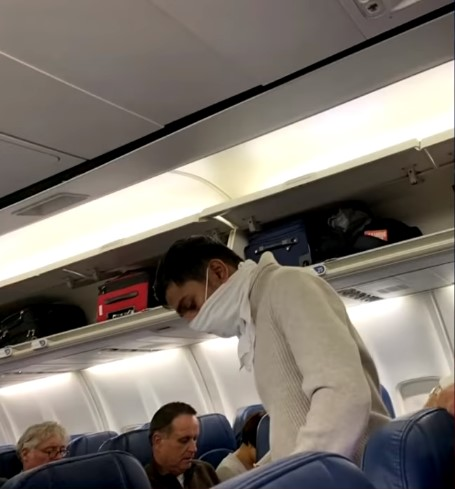face_no_mask: (150, 406, 199, 470)
face_with_mask: (154, 242, 263, 343)
